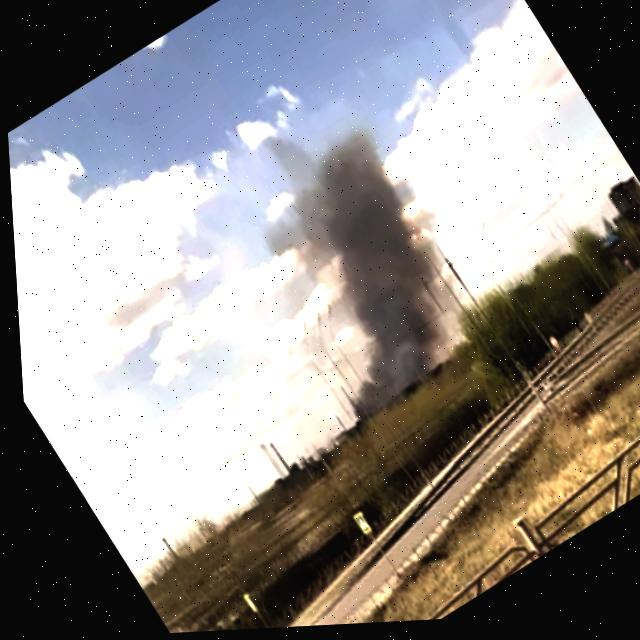Smoke: (190, 91, 492, 432)
